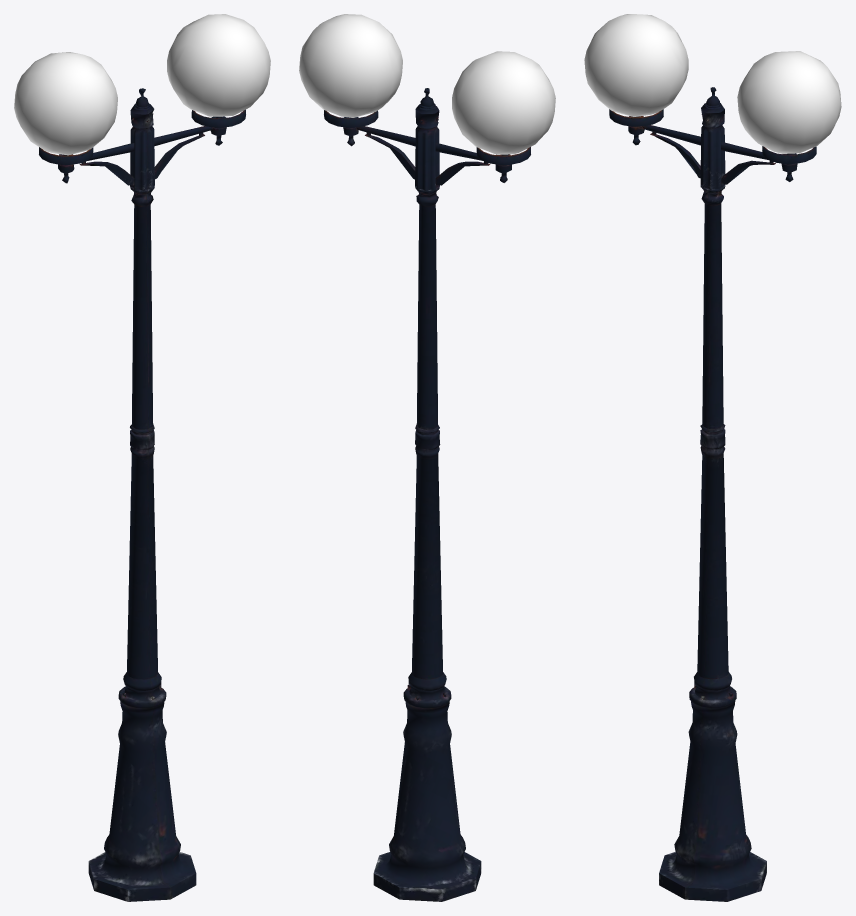
The model's file is den-duong.glb.
3 renders of one model, left to right at view 1: azimuth 30°, elevation 25°; view 2: azimuth 150°, elevation 25°; view 3: azimuth 330°, elevation 25°, orthographic.
Parts seen in each view (by area): view 1: Cylinder014_metal_0, Cylinder014_glass_0; view 2: Cylinder014_metal_0, Cylinder014_glass_0; view 3: Cylinder014_metal_0, Cylinder014_glass_0.
Boxes of the visible parts, bbox=[...] form: Cylinder014_metal_0: bbox=[39, 88, 245, 901]; Cylinder014_glass_0: bbox=[14, 14, 270, 155]; Cylinder014_metal_0: bbox=[324, 88, 530, 901]; Cylinder014_glass_0: bbox=[299, 14, 555, 154]; Cylinder014_metal_0: bbox=[609, 87, 816, 901]; Cylinder014_glass_0: bbox=[584, 14, 841, 153].
Bounding box in the file's own units: 0.3012 × 1 × 0.1201.
Materials: 2 (2 with a texture image).
